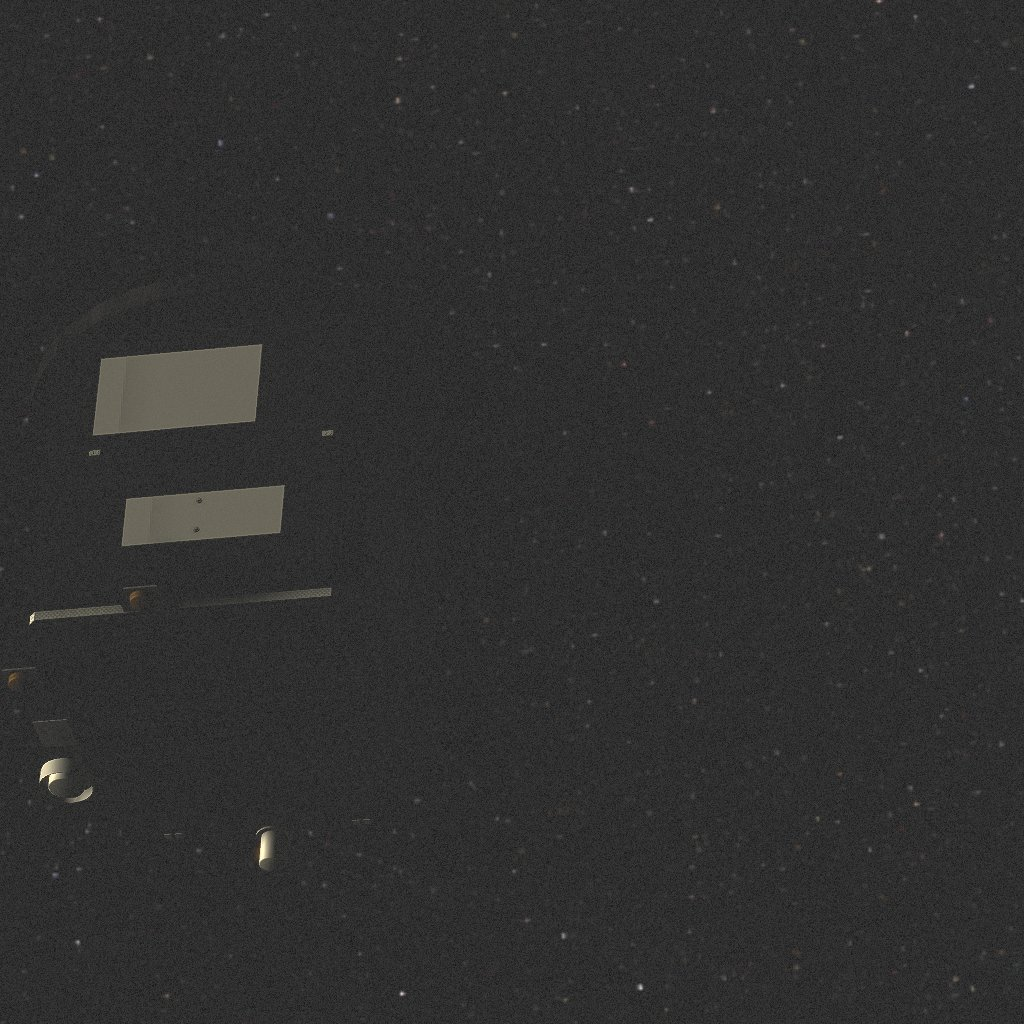proba_3_ocs: (0, 242, 498, 871)
